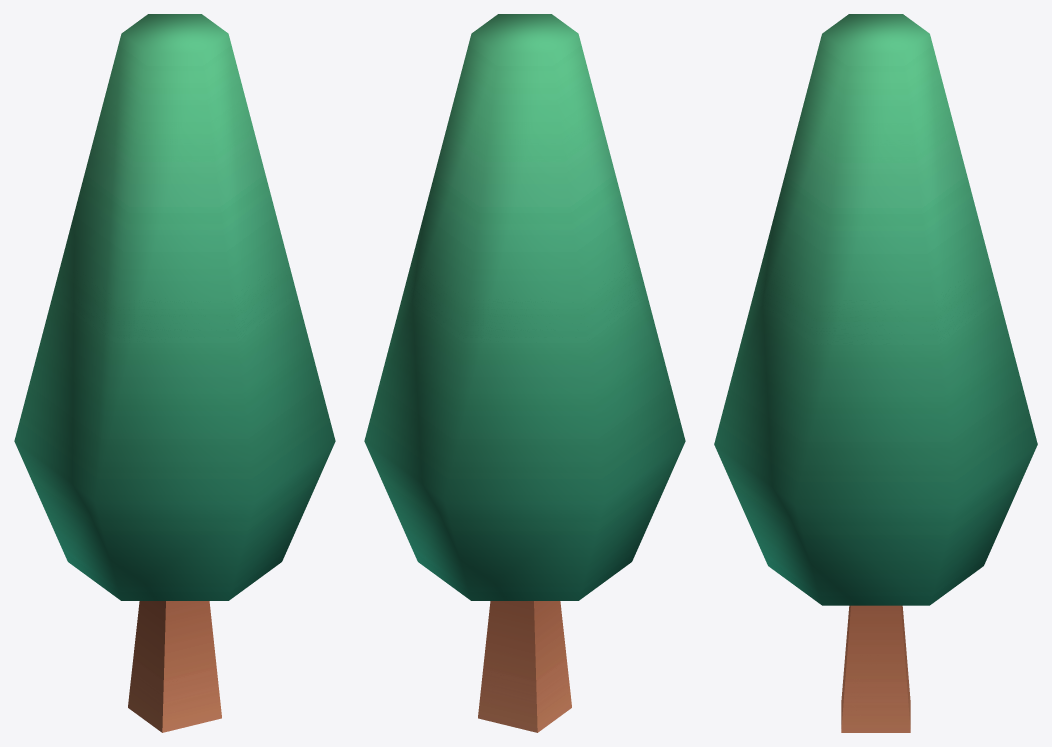
3 views of the same model, side by side, from view 1: azimuth 30°, elevation 25°; view 2: azimuth 150°, elevation 25°; view 3: azimuth 270°, elevation 25° (orthographic).
Parts seen in each view (by area): view 1: tree-small; view 2: tree-small; view 3: tree-small.
Part boxes in pixels (x1,y1,x2,y2): tree-small: [14, 14, 335, 732]; tree-small: [364, 14, 685, 732]; tree-small: [714, 14, 1037, 732].
Bounding box in the file's own units: 1.89 × 5.1 × 2.19.
Materials: 1 (1 with a texture image).
